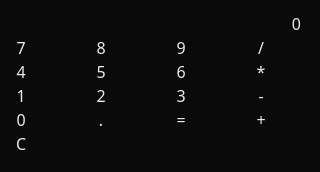
Test: Calculator Error Handling & Edge Cases › shows 'Error' for invalid expressions
Click the button "+" at [261, 120], box [221,108,301,132]
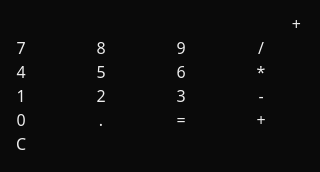
Click the button "=" at [181, 120], box [141,108,221,132]
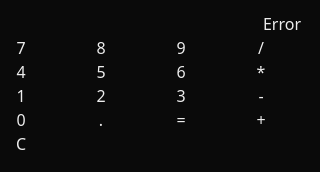
Now the text with test id "display" reads "Error", box [263,13,301,35]
